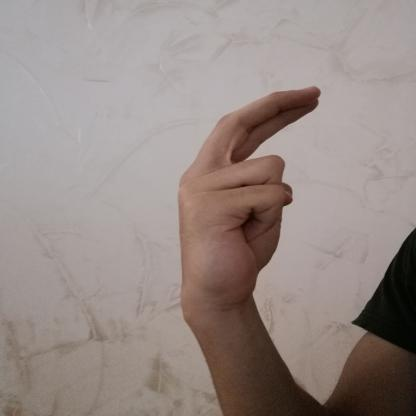ZAY: (161, 73, 337, 320)
